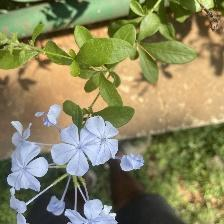chitrak: (59, 120, 99, 174), (10, 140, 50, 191)
